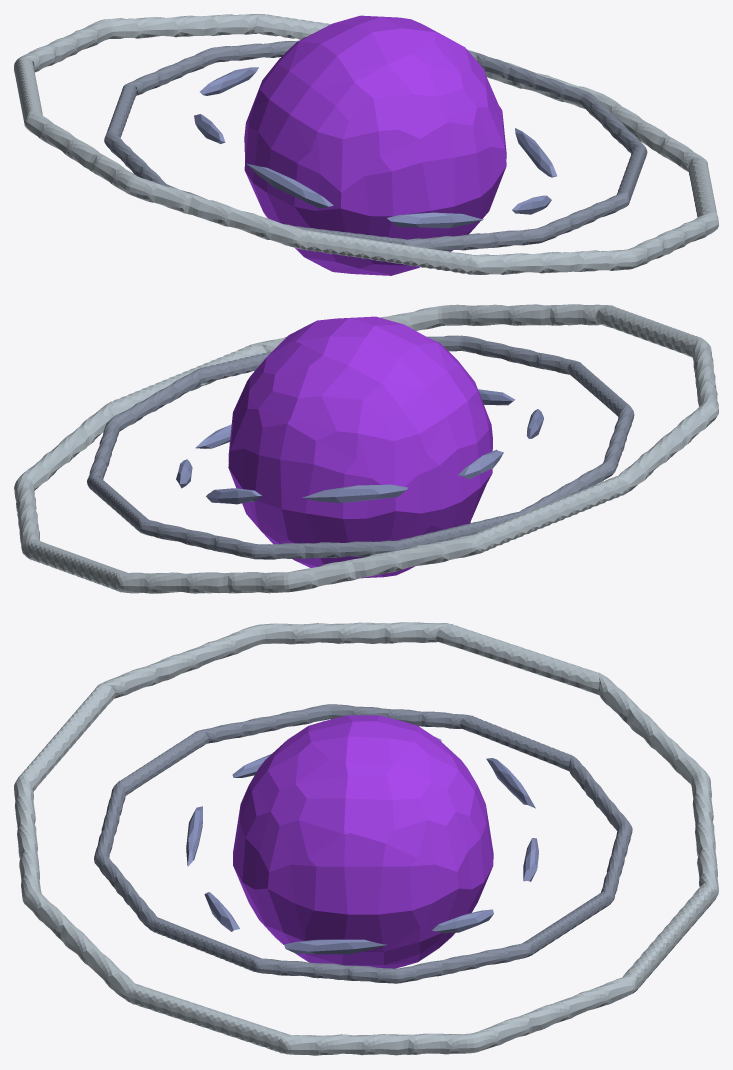
Rendered from Planet_Sat_Earth_Low_Poly.fbx.
3 views of the same model, one above another, from view 1: azimuth 30°, elevation 25°; view 2: azimuth 150°, elevation 25°; view 3: azimuth 270°, elevation 25° (orthographic).
Visible parts, largest first — view 1: Icosphere, Torus.000, Torus.004, Torus.001; view 2: Icosphere, Torus.000, Torus.004, Torus.001; view 3: Icosphere, Torus.000, Torus.004, Torus.001.
Part boxes in pixels (x1,y1,x2,y2): Icosphere: (244,15,506,275); Torus.000: (14,14,718,274); Torus.004: (104,40,647,250); Torus.001: (194,67,557,228); Icosphere: (228,316,492,578); Torus.000: (14,304,718,593); Torus.004: (87,335,634,559); Torus.001: (176,389,543,504); Icosphere: (233,715,493,968); Torus.000: (14,622,718,1055); Torus.004: (94,704,632,983); Torus.001: (186,737,538,954).
Size of the model in its own units: 535 by 203 by 547.
